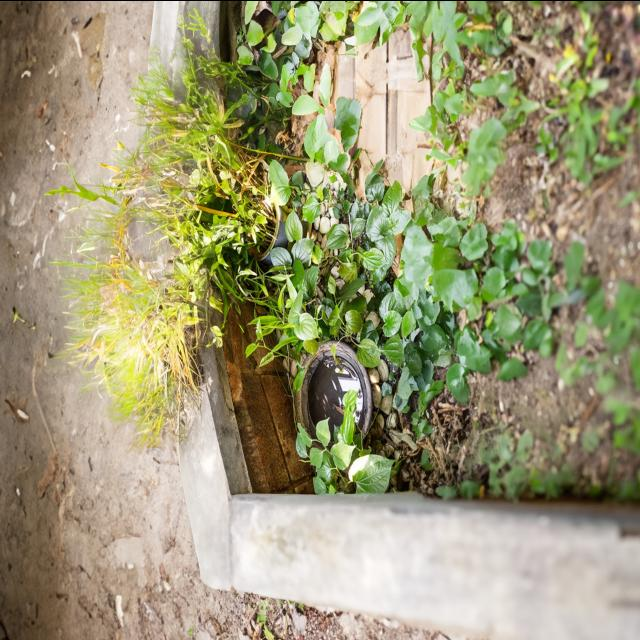Breeding Place: (306, 202, 556, 506), (380, 0, 640, 174), (158, 117, 319, 320), (264, 319, 399, 492), (214, 0, 364, 109)
